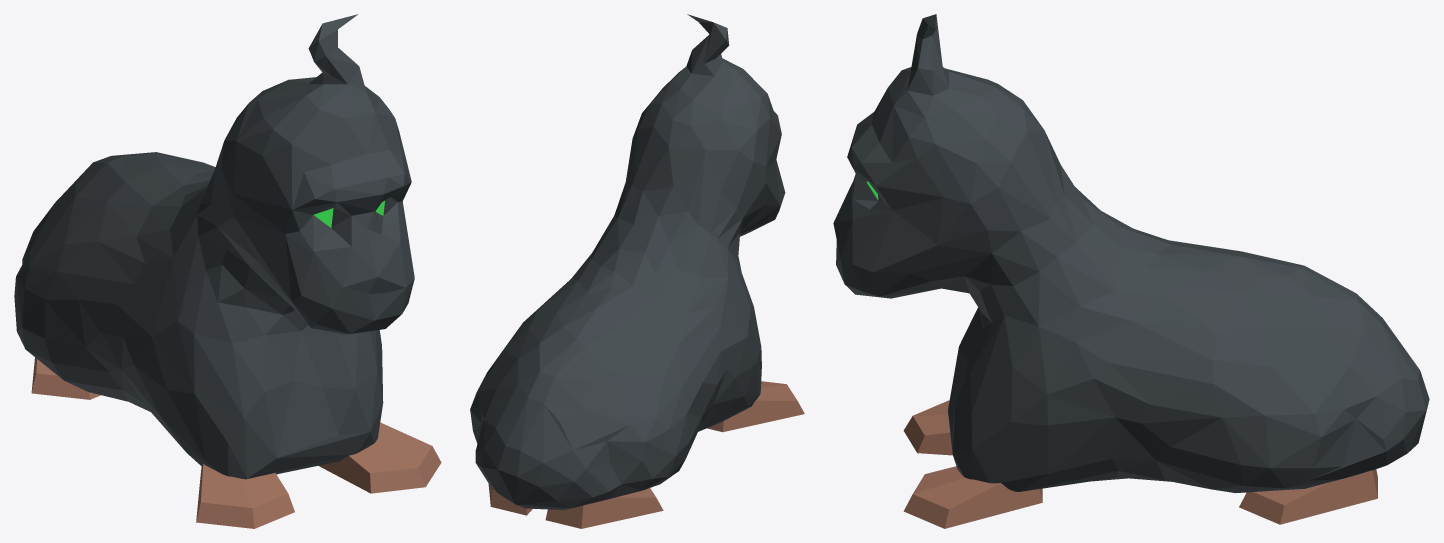
File: LPHorror_Ragamuffin.fbx
The picture shows the model from 3 angles, left to right: view 1: azimuth 30°, elevation 25°; view 2: azimuth 150°, elevation 25°; view 3: azimuth 270°, elevation 25°; orthographic projection. The views are drawn at different scales.
Visible parts, largest first — view 1: Ragamuffin; view 2: Ragamuffin; view 3: Ragamuffin.
Part boxes in pixels (x1,y1,x2,y2): Ragamuffin: [14, 14, 441, 528]; Ragamuffin: [470, 14, 804, 528]; Ragamuffin: [833, 14, 1429, 528].
Size of the model in its own units: 75.76 by 136 by 160.
